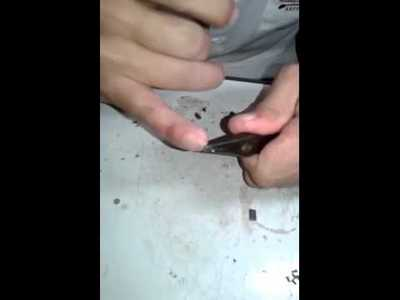mindinho: (106, 93, 227, 158)
